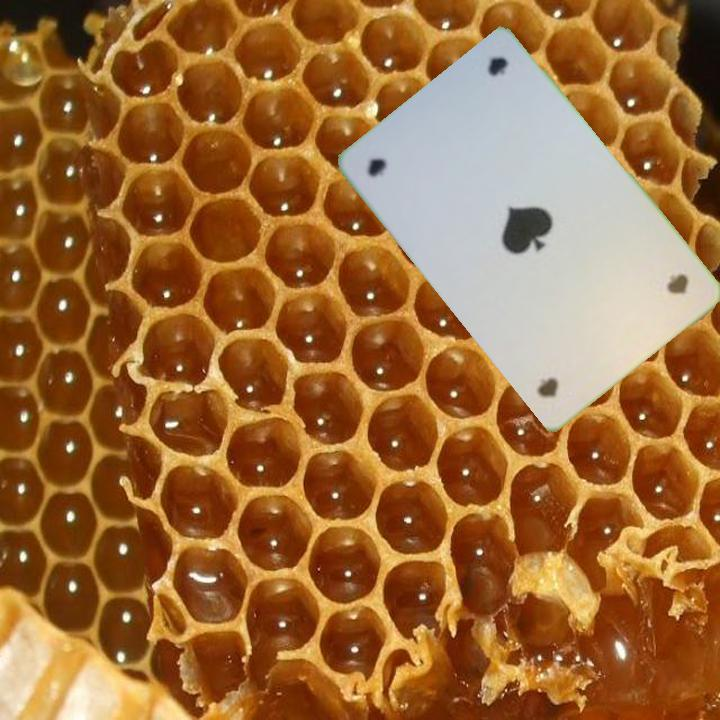s_a.png: (355, 101, 484, 229), (576, 227, 705, 354)
